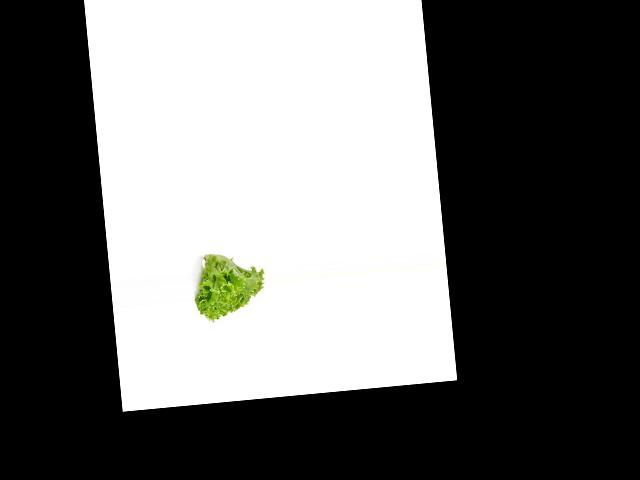lettuce: (190, 244, 270, 327)
